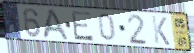0: (97, 12, 118, 43)
2: (126, 12, 149, 46)
6: (21, 7, 41, 39)
A: (41, 7, 71, 42)
E: (70, 10, 96, 43)
K: (150, 15, 171, 47)
